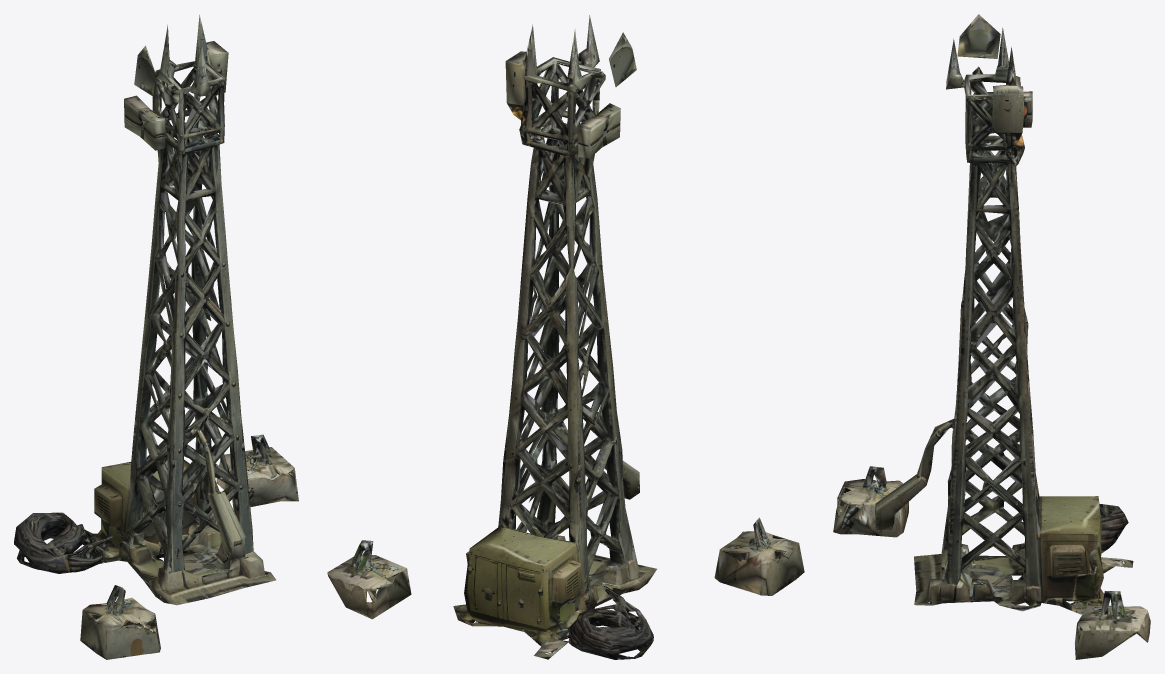
Rendered from EX_Mil_RadioMast.fbx.
The picture shows the model from 3 angles, left to right: view 1: azimuth 30°, elevation 25°; view 2: azimuth 150°, elevation 25°; view 3: azimuth 270°, elevation 25°; orthographic projection. The views are drawn at different scales.
Visible parts, largest first — view 1: texture_mapping; view 2: texture_mapping; view 3: texture_mapping.
Boxes of the visible parts, bbox=[...] form: texture_mapping: bbox=[14, 15, 298, 659]; texture_mapping: bbox=[327, 15, 804, 659]; texture_mapping: bbox=[833, 14, 1150, 659].
Bounding box in the file's own units: 0.5557 × 0.4834 × 0.9297.
1 material, 1 textured.
